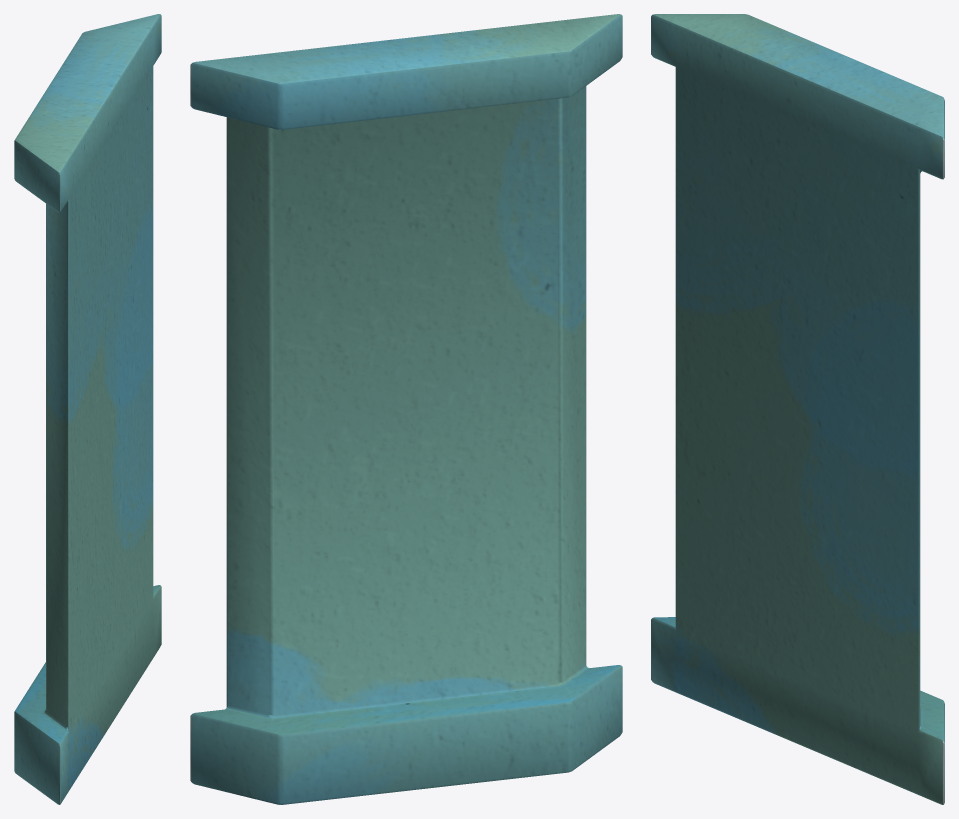
File: TOMB_PILLAR_ANGLE_002.obj
The picture shows the model from 3 angles, left to right: view 1: azimuth 30°, elevation 25°; view 2: azimuth 150°, elevation 25°; view 3: azimuth 270°, elevation 25°; orthographic projection. The views are drawn at different scales.
Visible parts, largest first — view 1: TOMB_PILLAR_ANGLE_002; view 2: TOMB_PILLAR_ANGLE_002; view 3: TOMB_PILLAR_ANGLE_002.
Boxes of the visible parts, box(x1,y1,x2,y2) form: TOMB_PILLAR_ANGLE_002: box(14, 14, 161, 804); TOMB_PILLAR_ANGLE_002: box(190, 14, 622, 804); TOMB_PILLAR_ANGLE_002: box(651, 14, 944, 804).
Bounding box in the file's own units: 1.19 × 3 × 1.19.
